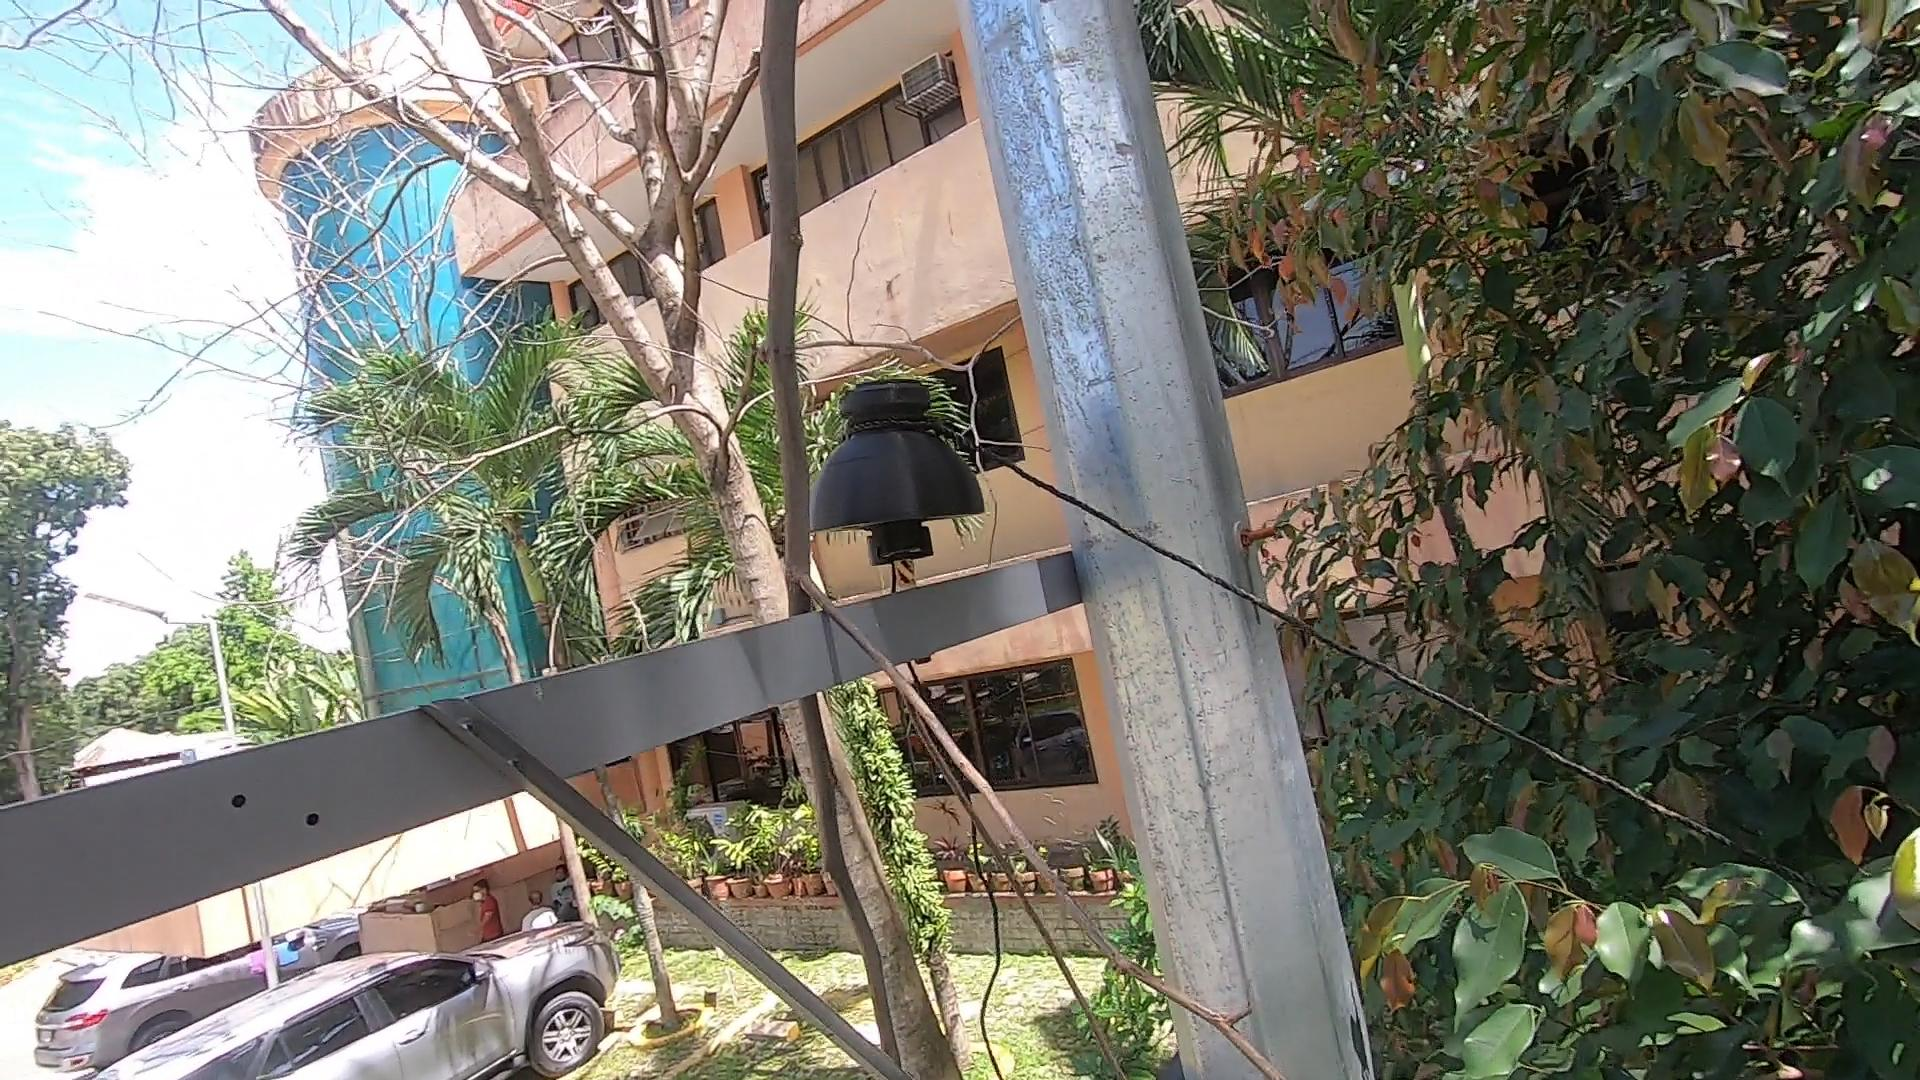tree branch: (673, 5, 1294, 1080)
